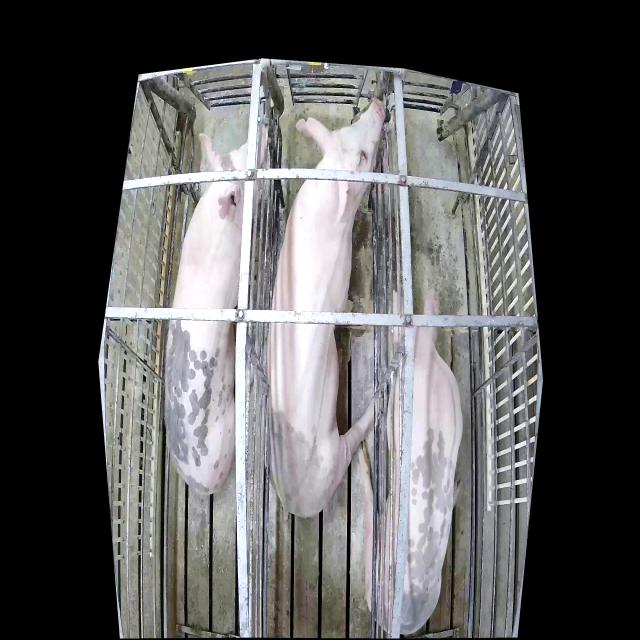pig: (267, 97, 385, 519), (164, 126, 270, 494), (359, 289, 462, 638)
